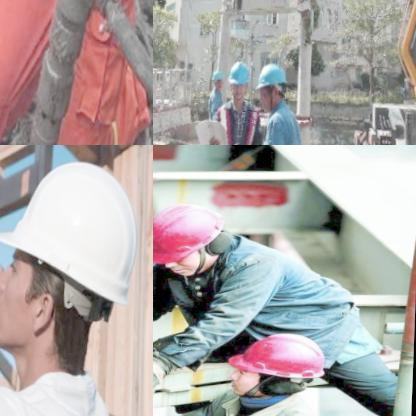helmet: (0, 145, 153, 392), (232, 332, 341, 406), (153, 198, 239, 282), (256, 63, 292, 112), (231, 60, 254, 104), (212, 68, 229, 94)
